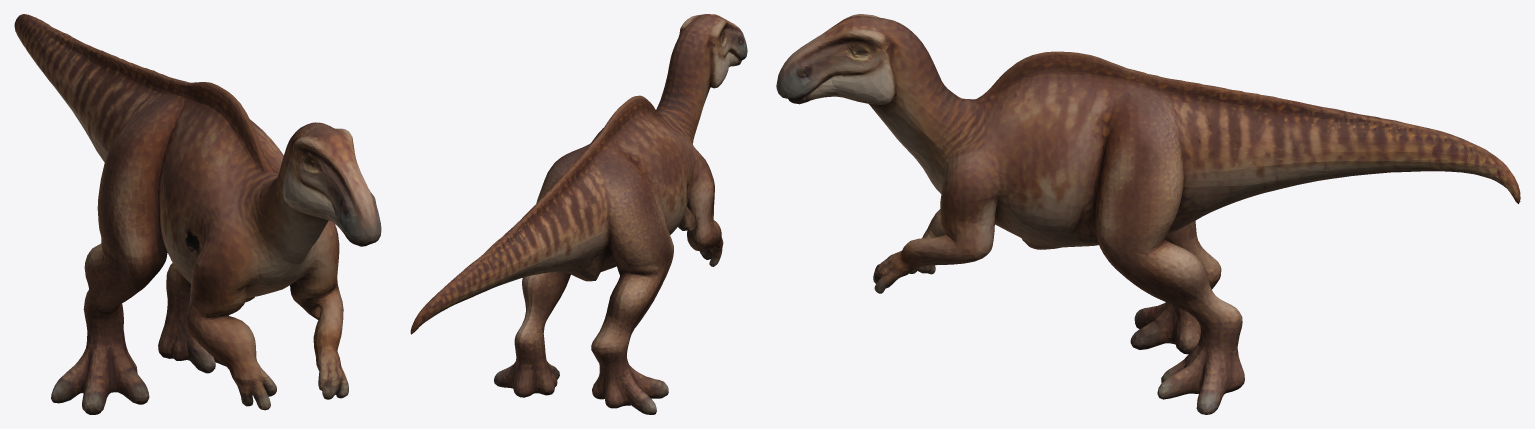
3 views of the same model, side by side, from view 1: azimuth 30°, elevation 25°; view 2: azimuth 150°, elevation 25°; view 3: azimuth 270°, elevation 25° (orthographic). The views are drawn at different scales.
Visible parts, largest first — view 1: world; view 2: world; view 3: world.
Boxes of the visible parts, x1,y1,x2,y2 form: world: [14, 14, 381, 414]; world: [410, 14, 747, 414]; world: [776, 14, 1520, 414].
Bounding box in the file's own units: 0.2995 × 0.5257 × 1.
2 materials, 2 textured.
